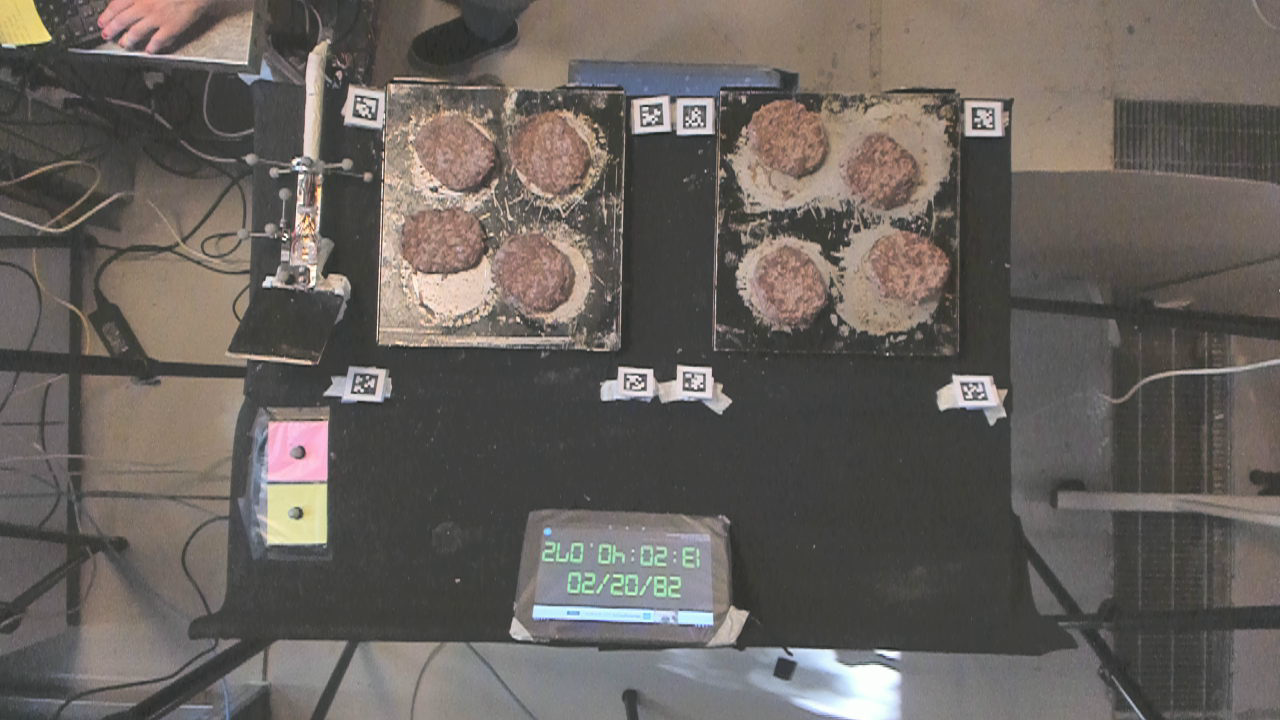hamburger: (508, 106, 594, 199), (745, 237, 829, 332), (493, 232, 582, 321), (846, 121, 922, 215), (744, 98, 829, 182), (858, 229, 954, 301), (411, 115, 496, 194), (400, 205, 486, 275)
marker: (265, 415, 329, 481)
